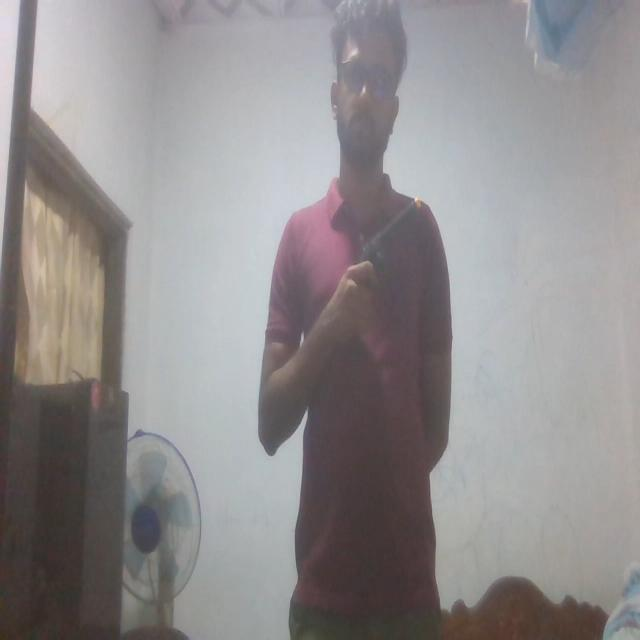Gun_Holder: (336, 177, 428, 333)
Person: (257, 0, 453, 640)
